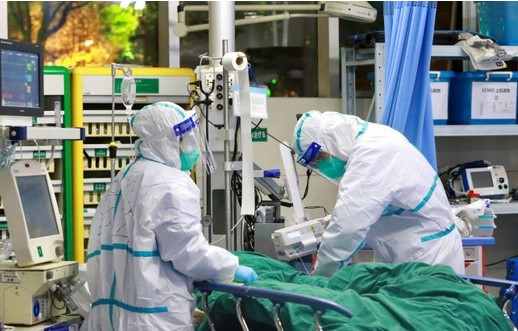face_with_mask: (138, 101, 206, 176), (293, 113, 357, 184)
